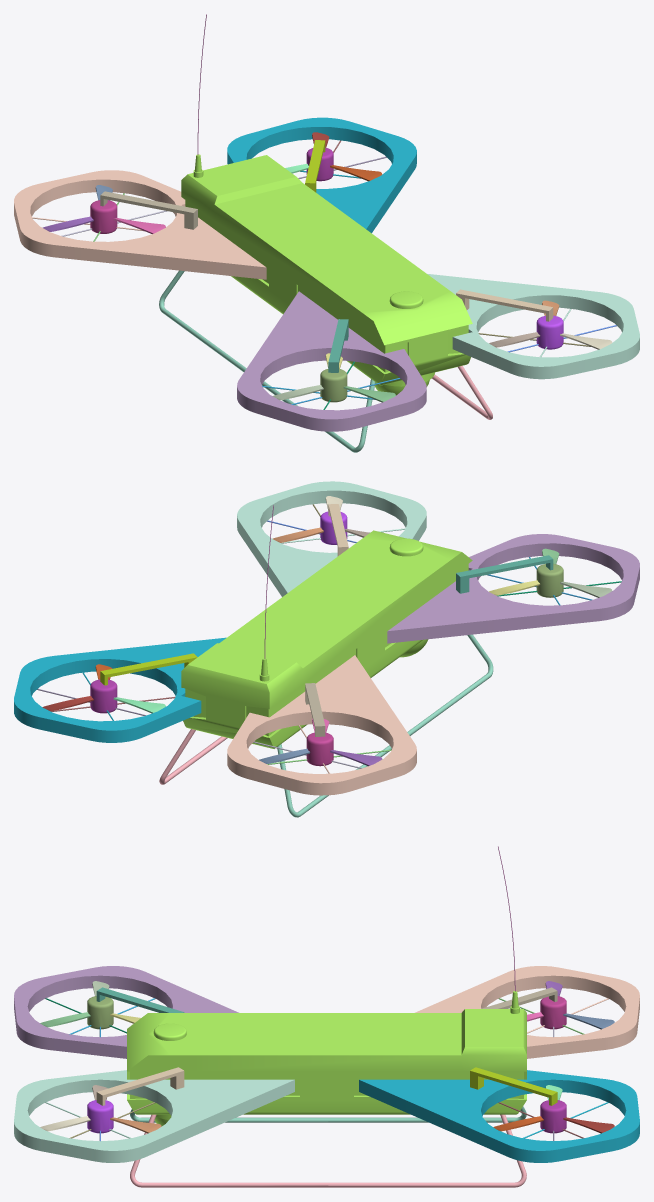
The picture shows the model from 3 angles, top to bottom: view 1: azimuth 30°, elevation 25°; view 2: azimuth 150°, elevation 25°; view 3: azimuth 270°, elevation 25°; orthographic projection.
Parts seen in each view (by area): view 1: split_parent_0, Line002_Material #2_0, Line004_Material #2_0, Line003_Material #2_0, Line001_Material #2_0, split_parent_28, Line006_Material #2_0, Line008_Material #2_0, Cylinder001_Material #2_0, Cylinder003_Material #2_0, Cylinder002_Material #2_0, split_parent_27 (+1 smaller); view 2: split_parent_0, Line004_Material #2_0, Line002_Material #2_0, Line001_Material #2_0, Line003_Material #2_0, split_parent_28, Line009_Material #2_0, Line007_Material #2_0, Cylinder004_Material #2_0, Cylinder002_Material #2_0, Cylinder003_Material #2_0, split_parent_27 (+3 smaller); view 3: split_parent_0, Line003_Material #2_0, Line001_Material #2_0, Line002_Material #2_0, Line004_Material #2_0, split_parent_27, split_parent_28, Line008_Material #2_0, Line007_Material #2_0, Cylinder001_Material #2_0, Cylinder004_Material #2_0, Cylinder002_Material #2_0 (+3 smaller).
Boxes of the visible parts, bbox=[...] form: split_parent_0: bbox=[181, 154, 472, 395]; Line002_Material #2_0: bbox=[14, 170, 266, 279]; Line004_Material #2_0: bbox=[237, 291, 426, 431]; Line003_Material #2_0: bbox=[427, 274, 639, 379]; Line001_Material #2_0: bbox=[227, 117, 416, 233]; split_parent_28: bbox=[159, 270, 375, 452]; Line006_Material #2_0: bbox=[100, 191, 197, 229]; Line008_Material #2_0: bbox=[456, 289, 553, 321]; Cylinder001_Material #2_0: bbox=[536, 315, 563, 349]; Cylinder003_Material #2_0: bbox=[90, 200, 117, 233]; Cylinder002_Material #2_0: bbox=[320, 368, 347, 402]; split_parent_27: bbox=[432, 365, 492, 419]; split_parent_0: bbox=[181, 530, 472, 748]; Line004_Material #2_0: bbox=[387, 534, 639, 643]; Line002_Material #2_0: bbox=[227, 655, 416, 795]; Line001_Material #2_0: bbox=[14, 637, 226, 742]; Line003_Material #2_0: bbox=[237, 481, 426, 596]; split_parent_28: bbox=[277, 634, 493, 817]; Line009_Material #2_0: bbox=[456, 555, 553, 593]; Line007_Material #2_0: bbox=[100, 653, 197, 685]; Cylinder004_Material #2_0: bbox=[90, 679, 117, 713]; Cylinder002_Material #2_0: bbox=[536, 563, 563, 597]; Cylinder003_Material #2_0: bbox=[306, 732, 333, 766]; split_parent_27: bbox=[159, 729, 227, 784]; split_parent_0: bbox=[127, 991, 526, 1126]; Line003_Material #2_0: bbox=[14, 1070, 294, 1162]; Line001_Material #2_0: bbox=[359, 1070, 639, 1162]; Line002_Material #2_0: bbox=[415, 966, 639, 1058]; Line004_Material #2_0: bbox=[14, 966, 238, 1058]; split_parent_27: bbox=[130, 1114, 526, 1187]; split_parent_28: bbox=[130, 1106, 526, 1122]; Line008_Material #2_0: bbox=[96, 1067, 184, 1105]; Line007_Material #2_0: bbox=[470, 1067, 557, 1105]; Cylinder001_Material #2_0: bbox=[87, 1100, 113, 1133]; Cylinder004_Material #2_0: bbox=[540, 1100, 566, 1133]; Cylinder002_Material #2_0: bbox=[87, 996, 113, 1029].
Bounding box in the file's own units: 0.6993 × 0.5153 × 1.
